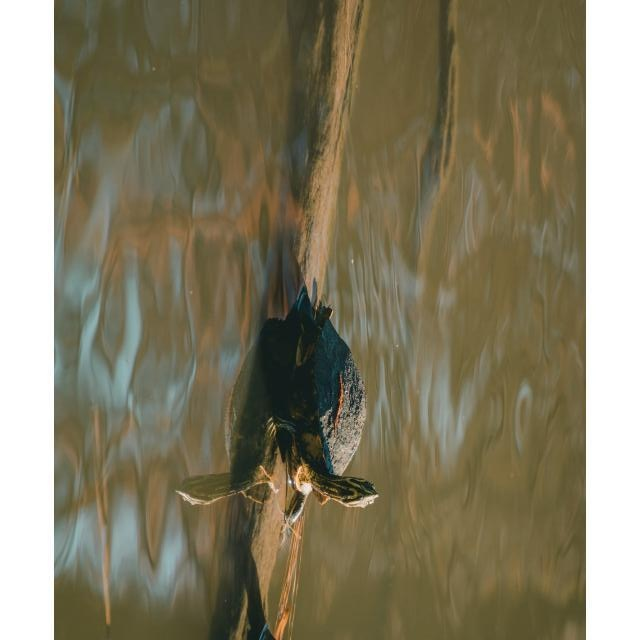turtle: (262, 302, 381, 523)
